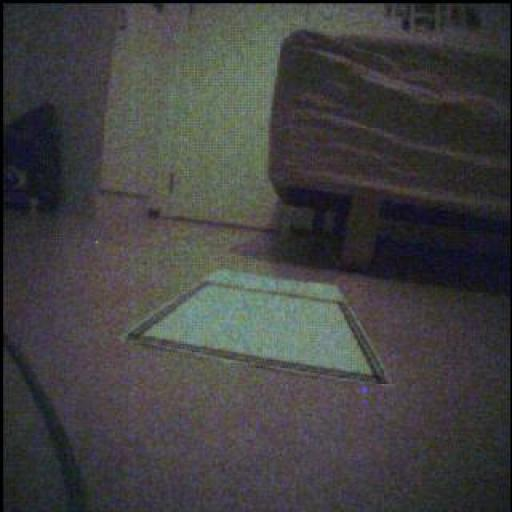pad: (128, 272, 387, 384)
